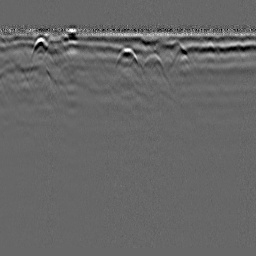cavity: (114, 46, 139, 69)
